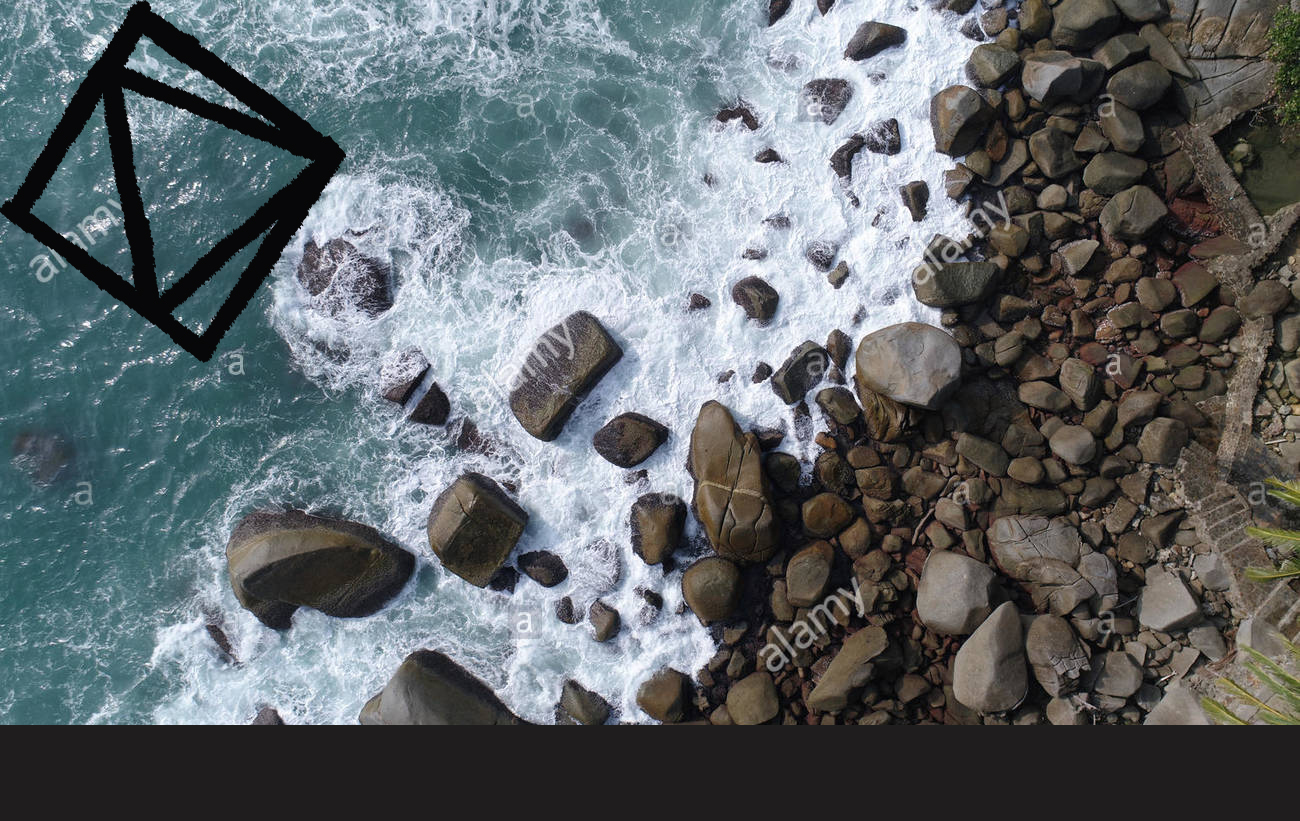marker: (1, 1, 351, 363)
